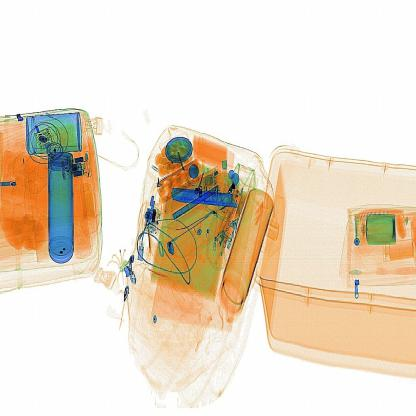pliers: (168, 181, 244, 217)
